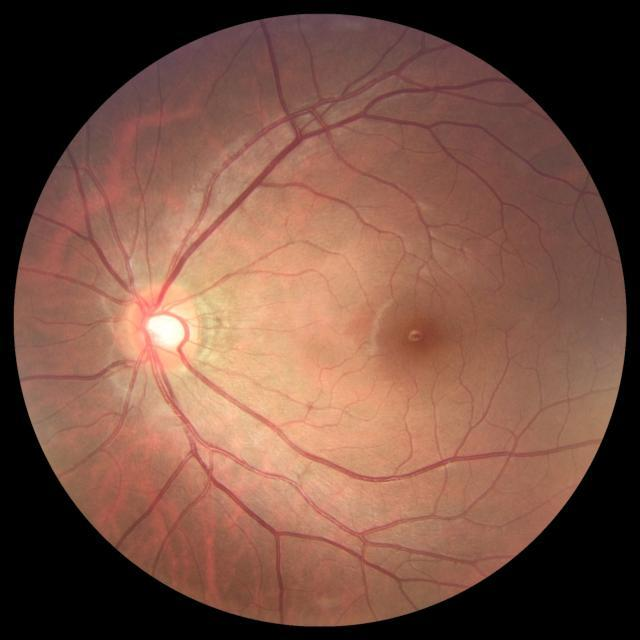OC: (144, 312, 184, 349)
OD: (120, 282, 202, 374)
